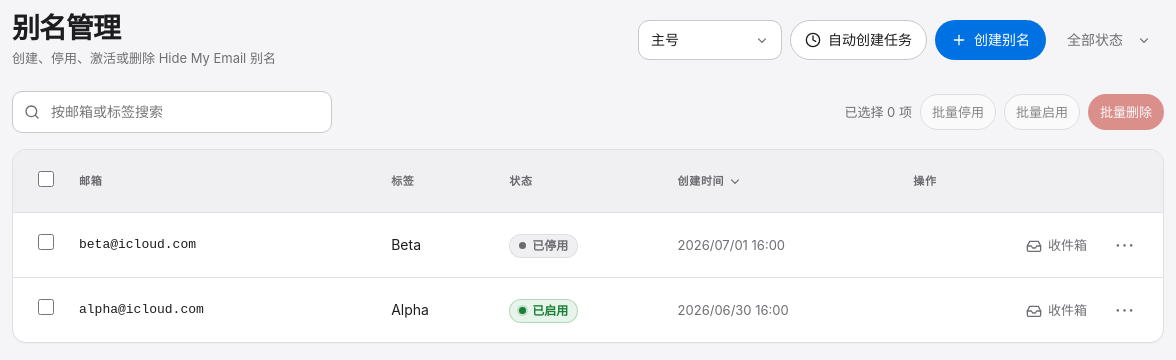
AliasesPage › 按 email/label 大小写不敏感搜索与 active 状态筛选
This screenshot has width=1176, height=360.
Expected: the button "alpha@icloud.com" is shown, [79, 290, 204, 330]
In the search field labelled "按邮箱或标签搜索": (172, 112) [12, 91, 332, 133], type "ALPHA"
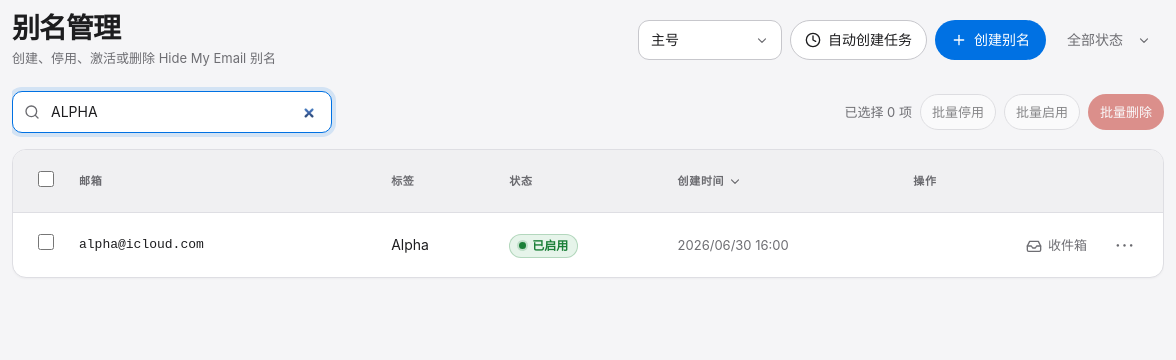
Expected: the button "alpha@icloud.com" is shown, [79, 225, 204, 265]
Expected: the button "beta@icloud.com" is gone
Clear the search field named "搜索": (172, 112) [12, 91, 332, 133]
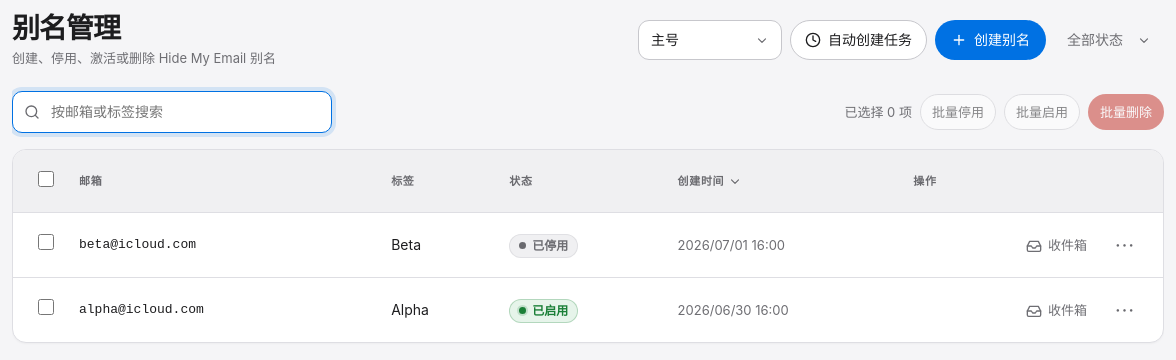
Click the button with aria-label "状态筛选": (1109, 40) [1054, 20, 1164, 60]
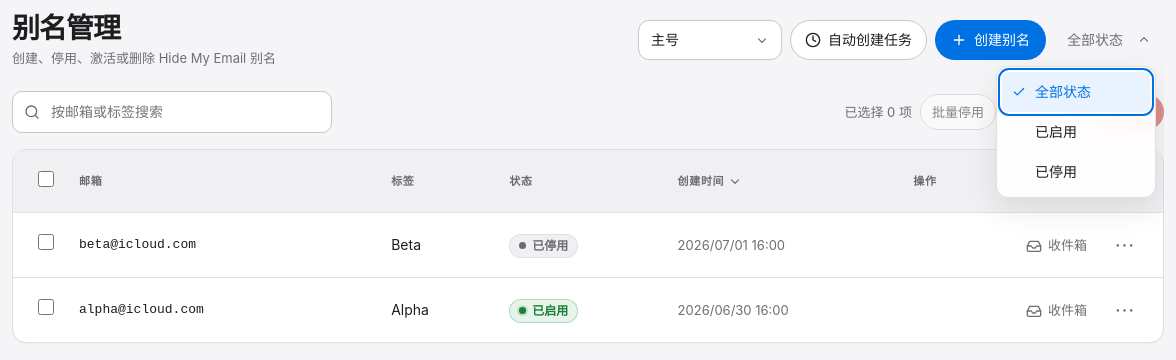
Click the option "已启用": (1076, 132) [1002, 112, 1150, 152]
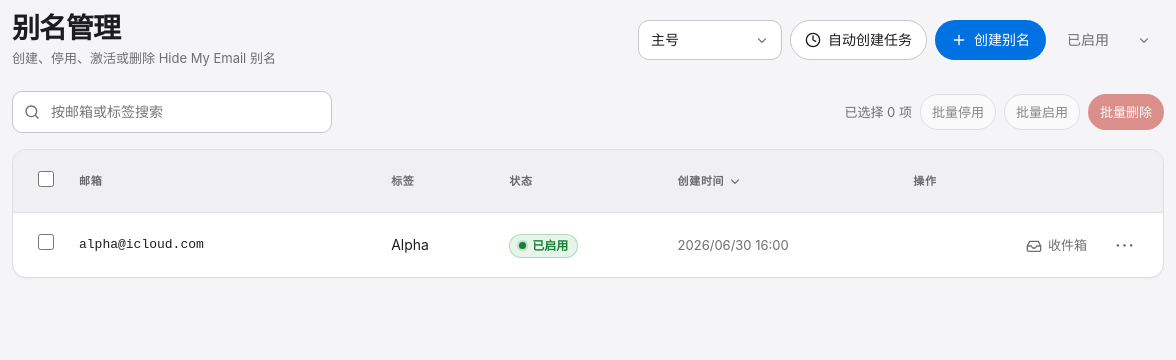
Expected: the button "alpha@icloud.com" is shown, [79, 225, 204, 265]
Expected: the button "beta@icloud.com" is gone
